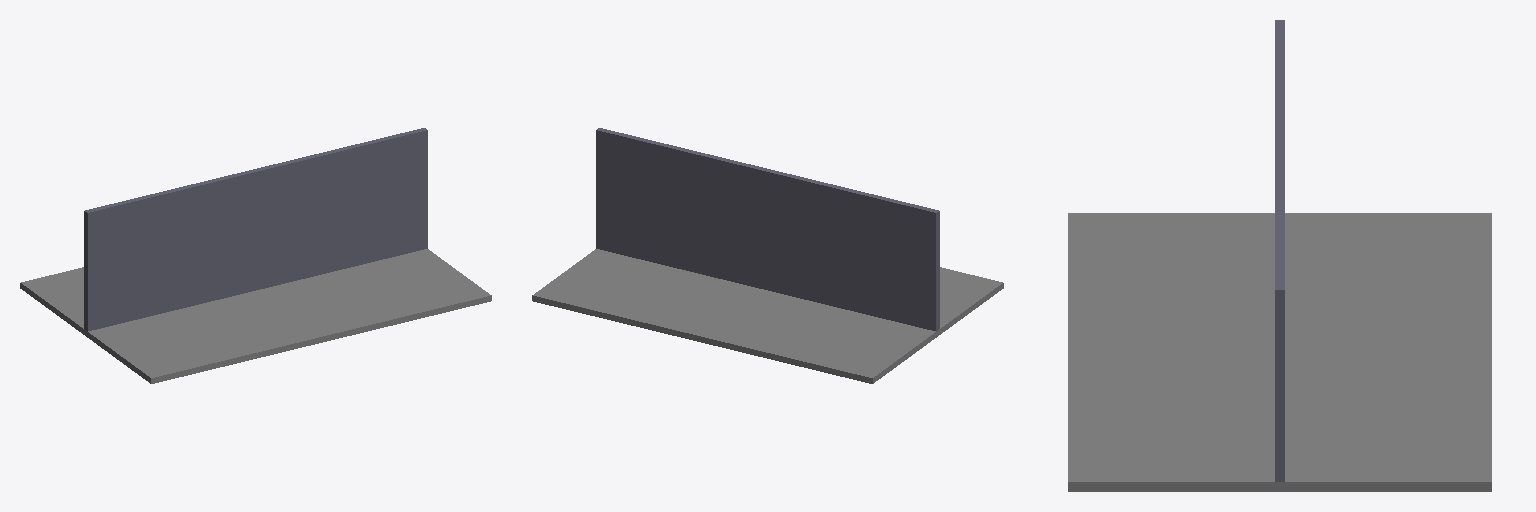
The robot description file, URDF, robot "T_workpiece":
<?xml version="1.0" encoding="utf-8"?>
<robot name="T_workpiece">

  <!-- ======== 底板 (base plate) ======== -->
  <!-- URDF 第一个 link 是 base_link，PyBullet 以此作为整体的参考原点。 -->
  <link name="base_plate">
    <visual>
      <origin xyz="0 0 0" rpy="0 0 0"/>
      <geometry>
        <!-- size="长x 宽y 厚z"，单位：米 -->
        <box size="0.30 0.20 0.005"/>
      </geometry>
      <material name="steel_gray">
        <color rgba="0.55 0.55 0.55 1.0"/>
      </material>
    </visual>
    <collision>
      <origin xyz="0 0 0" rpy="0 0 0"/>
      <geometry>
        <box size="0.30 0.20 0.005"/>
      </geometry>
    </collision>
    <inertial>
      <mass value="1.0"/>
      <origin xyz="0 0 0"/>
      <inertia ixx="0.001" iyy="0.001" izz="0.001" ixy="0" ixz="0" iyz="0"/>
    </inertial>
  </link>

  <!-- ======== 立板 (vertical plate) ======== -->
  <link name="vertical_plate">
    <visual>
      <origin xyz="0 0 0" rpy="0 0 0"/>
      <geometry>
        <!-- 立板：长x 厚y 高z -->
        <box size="0.30 0.005 0.10"/>
      </geometry>
      <material name="steel_dark">
        <color rgba="0.45 0.45 0.50 1.0"/>
      </material>
    </visual>
    <collision>
      <origin xyz="0 0 0" rpy="0 0 0"/>
      <geometry>
        <box size="0.30 0.005 0.10"/>
      </geometry>
    </collision>
    <inertial>
      <mass value="0.5"/>
      <origin xyz="0 0 0"/>
      <inertia ixx="0.001" iyy="0.001" izz="0.001" ixy="0" ixz="0" iyz="0"/>
    </inertial>
  </link>

  <!-- ======== 固定关节：立板焊接在底板正中上方 ======== -->
  <!-- origin 定义子 link 坐标系原点相对于父 link 坐标系原点的位置。
       这里：x=0（居中），y=0（居中），z=底板半厚+立板半高 = 0.0025+0.05 -->
  <joint name="base_to_vertical" type="fixed">
    <parent link="base_plate"/>
    <child link="vertical_plate"/>
    <origin xyz="0 0 0.0525" rpy="0 0 0"/>
  </joint>

</robot>

--- Render facts (derived) ---
Views: 3 orthographic renders of the robot side by side, from view 1: azimuth 30°, elevation 25°; view 2: azimuth 150°, elevation 25°; view 3: azimuth 270°, elevation 25°.
Robot: T_workpiece — 2 links, 1 joints (1 fixed); root link base_plate; default pose: every joint at zero.
Visible links, largest first — view 1: vertical_plate, base_plate; view 2: vertical_plate, base_plate; view 3: base_plate, vertical_plate.
Link boxes in pixels (box(x1,y1,x2,y2)): vertical_plate: box(84, 128, 427, 331); base_plate: box(20, 249, 491, 383); vertical_plate: box(596, 128, 939, 331); base_plate: box(532, 249, 1003, 383); base_plate: box(1068, 213, 1491, 491); vertical_plate: box(1275, 20, 1284, 481).
Bounding box of the posed robot: 0.3 × 0.2 × 0.105 m (x, y, z).
Geometry: primitives only (box / cylinder / sphere), no mesh files.
